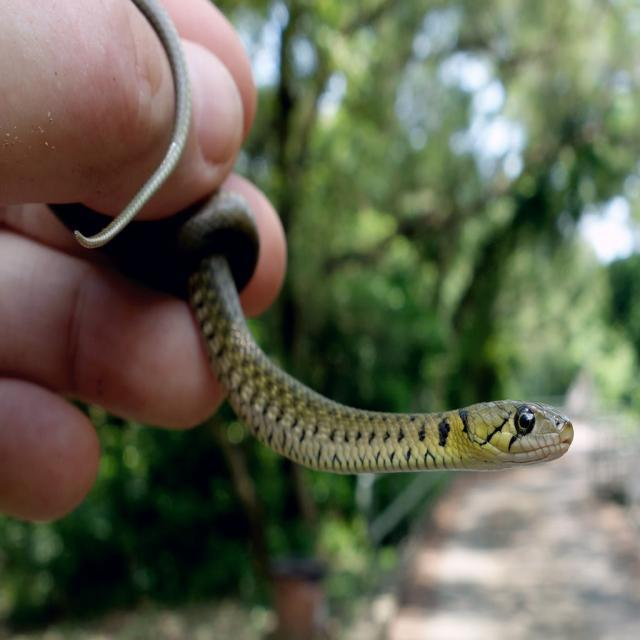Snake: (39, 191, 582, 481)
